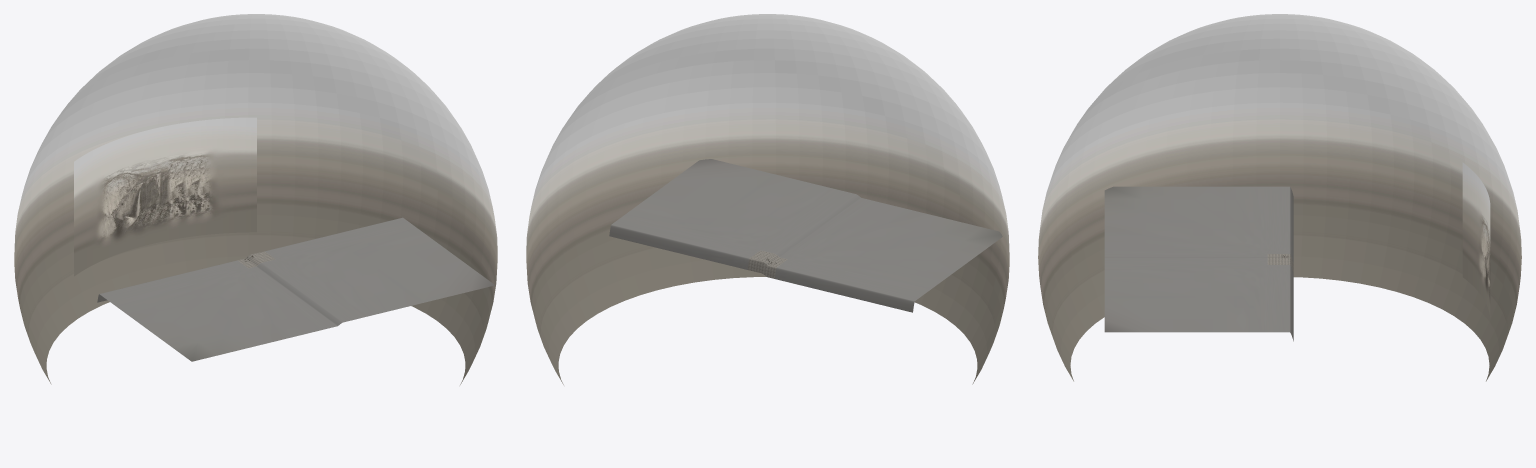
Rendered from muir-glacier-point-1903-mobile.glb.
3 renders of one model, left to right at view 1: azimuth 30°, elevation 25°; view 2: azimuth 150°, elevation 25°; view 3: azimuth 270°, elevation 25°, orthographic.
Visible parts, largest first — view 1: sky_dome, far_rock, artifact_view_1903; view 2: sky_dome, far_rock, artifact_granite_ledge; view 3: sky_dome, far_rock, artifact_view_1903.
Part boxes in pixels (<box>): sky_dome: <box>14,14,497,384</box>; far_rock: <box>97,217,494,361</box>; artifact_view_1903: <box>74,117,256,276</box>; sky_dome: <box>526,14,1009,384</box>; far_rock: <box>609,159,1002,312</box>; artifact_granite_ledge: <box>747,250,787,278</box>; sky_dome: <box>1038,14,1521,381</box>; far_rock: <box>1104,186,1293,341</box>; artifact_view_1903: <box>1462,162,1490,317</box>.
Size of the model in its own units: 276 by 207 by 276.
Materials: 3 (2 with a texture image).
